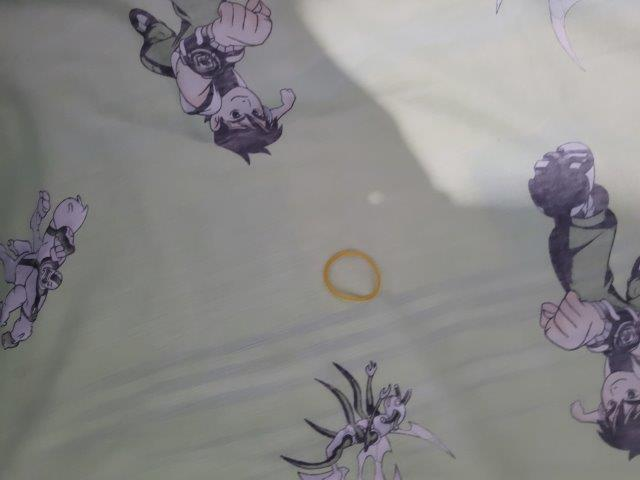karet: (322, 248, 381, 303)
